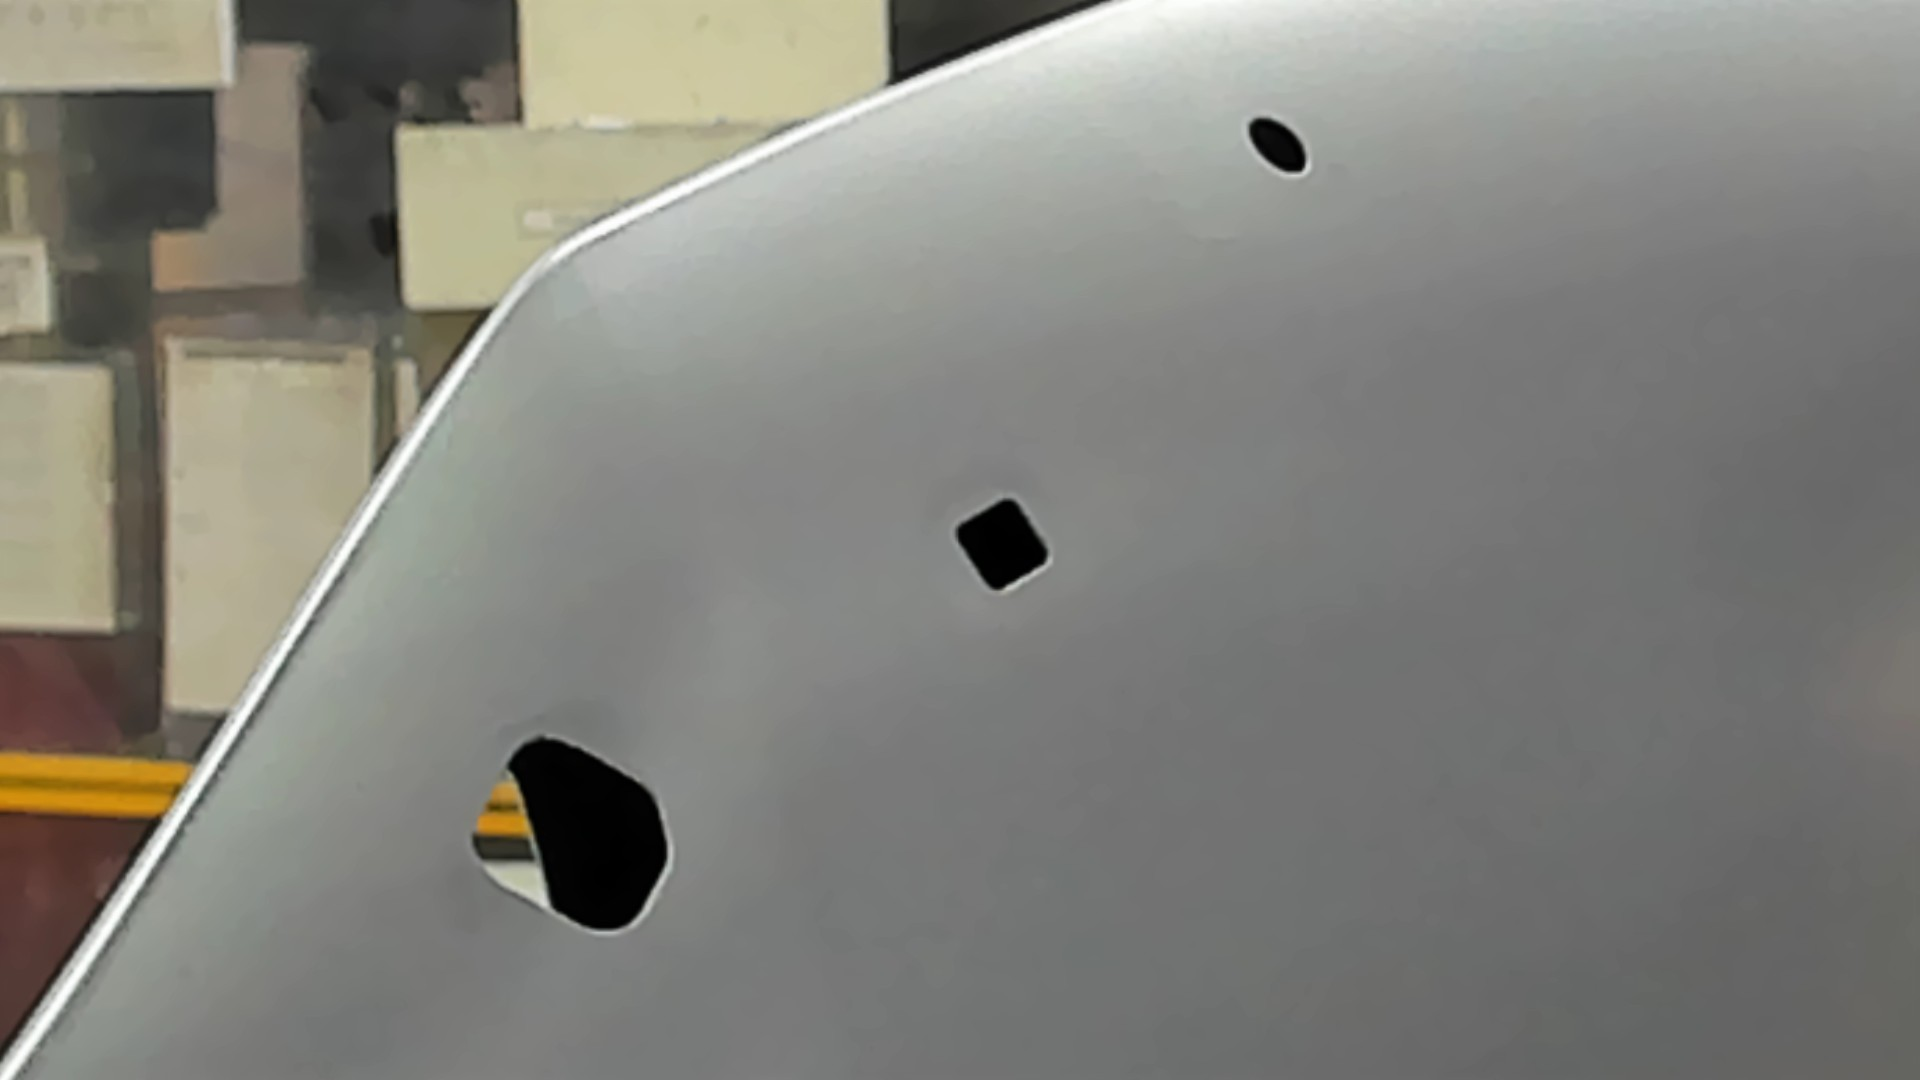chico: (1241, 112, 1312, 174)
grande: (463, 728, 674, 938)
mediano: (952, 492, 1054, 597)
